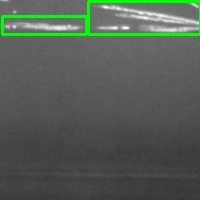scratches: (88, 1, 200, 34), (2, 16, 86, 34)
